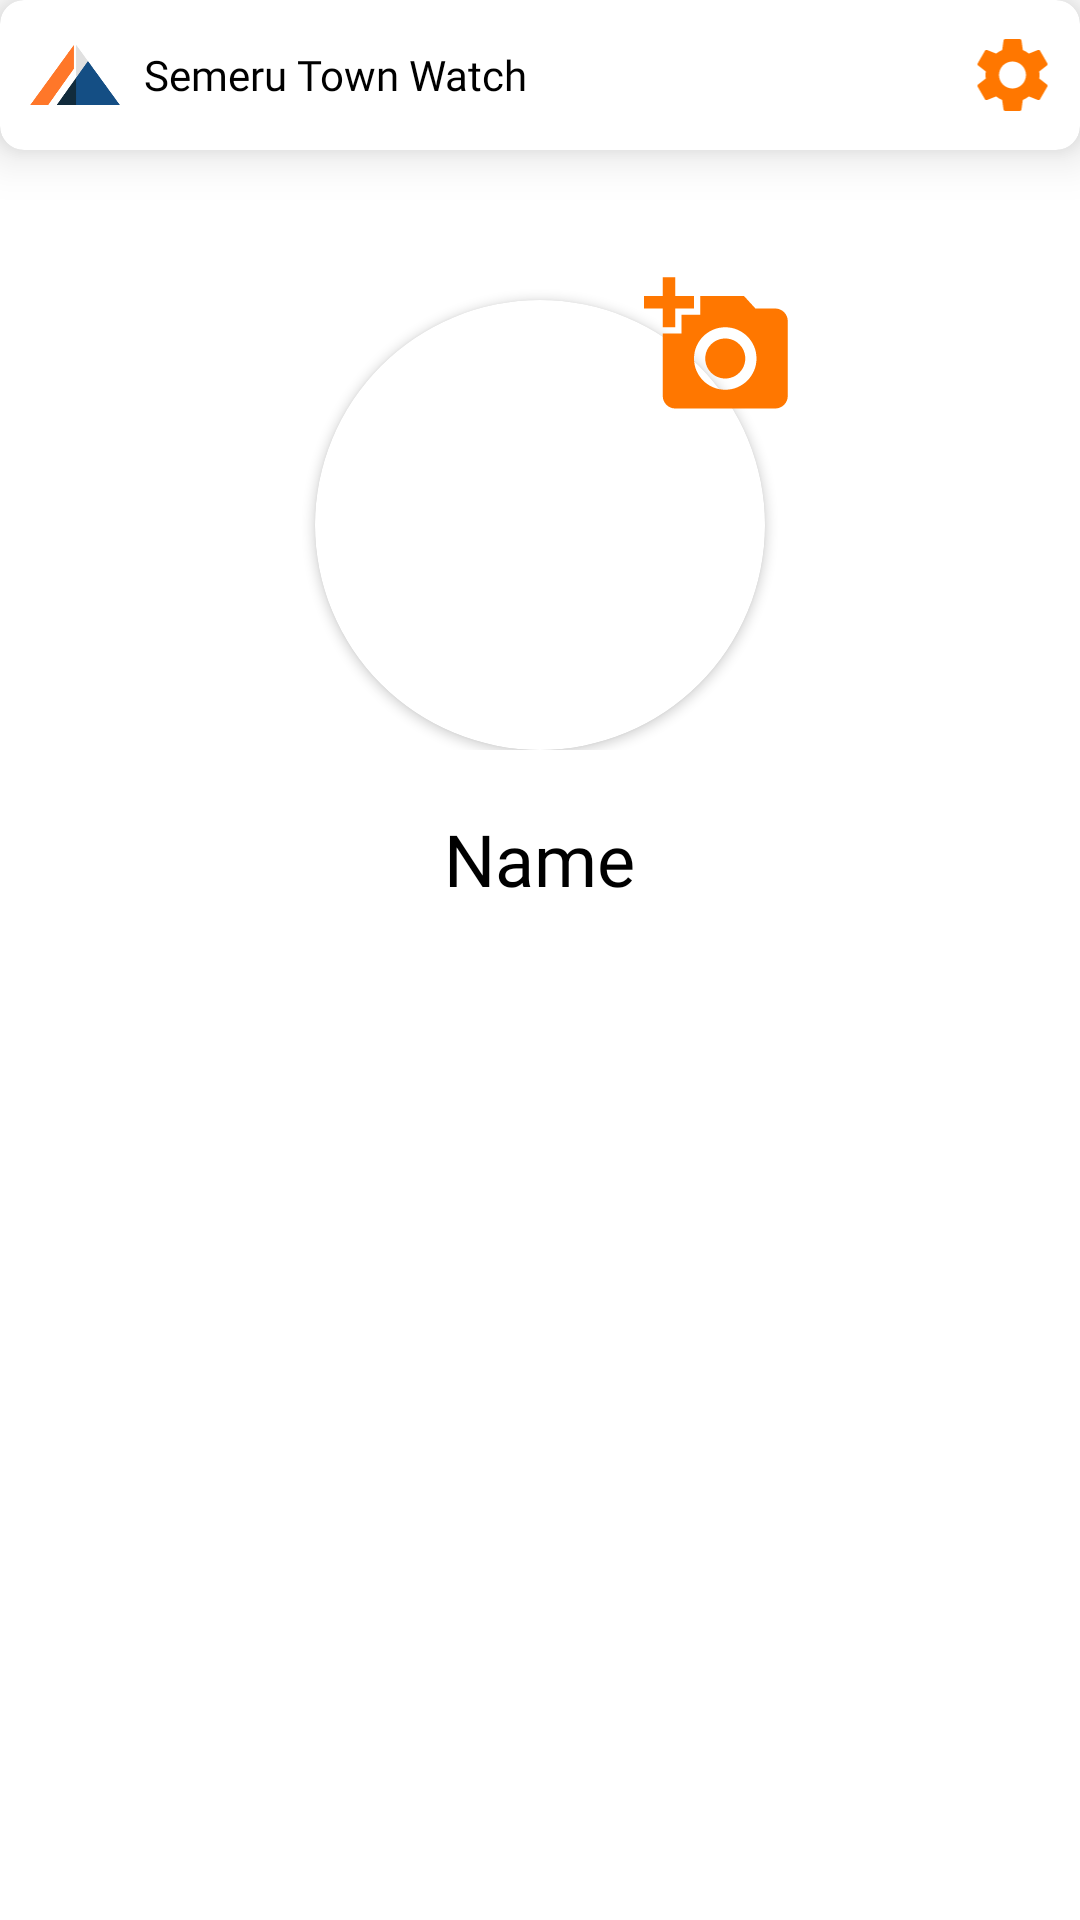

Named icons in this screenshot (1080px x 1920px) and their centers, (x,y):
add photo: (716,349)
settings: (1012,75)
